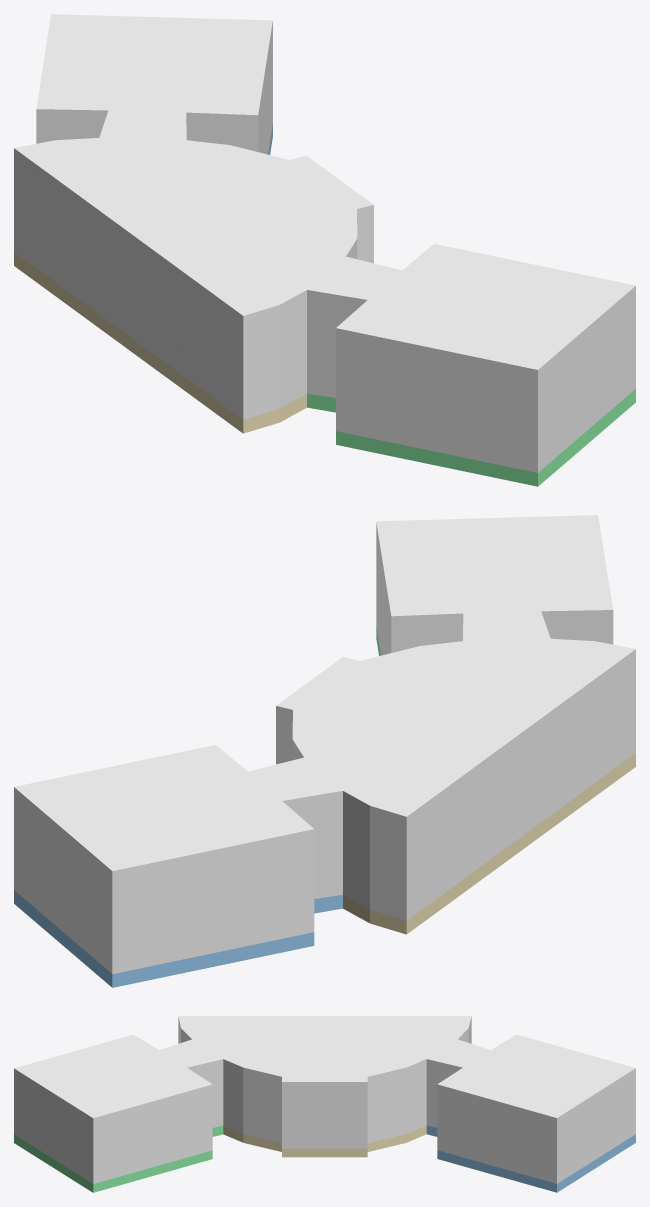
The model's file is blenderRooms1.gltf.
3 renders of one model, top to bottom at view 1: azimuth 30°, elevation 25°; view 2: azimuth 150°, elevation 25°; view 3: azimuth 270°, elevation 25°, orthographic. The views are drawn at different scales.
Visible parts, largest first — view 1: Cylinder.001; view 2: Cylinder.001; view 3: Cylinder.001.
Boxes of the visible parts, left/top/right/bottom form: Cylinder.001: left=14, top=14, right=635, bottom=486; Cylinder.001: left=14, top=515, right=635, bottom=987; Cylinder.001: left=14, top=1016, right=635, bottom=1192.
Size of the model in its own units: 9.86 by 3.41 by 25.45.
